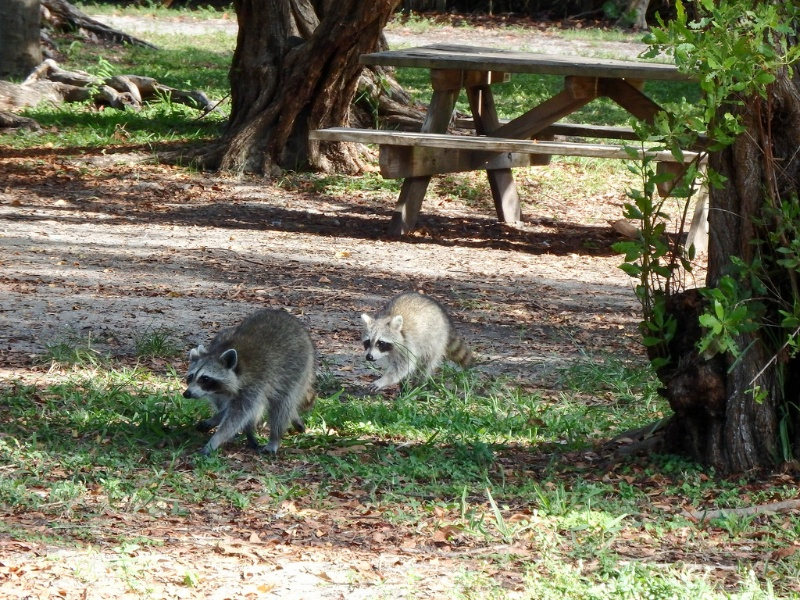raccoon: (176, 303, 326, 456), (358, 291, 481, 401)
